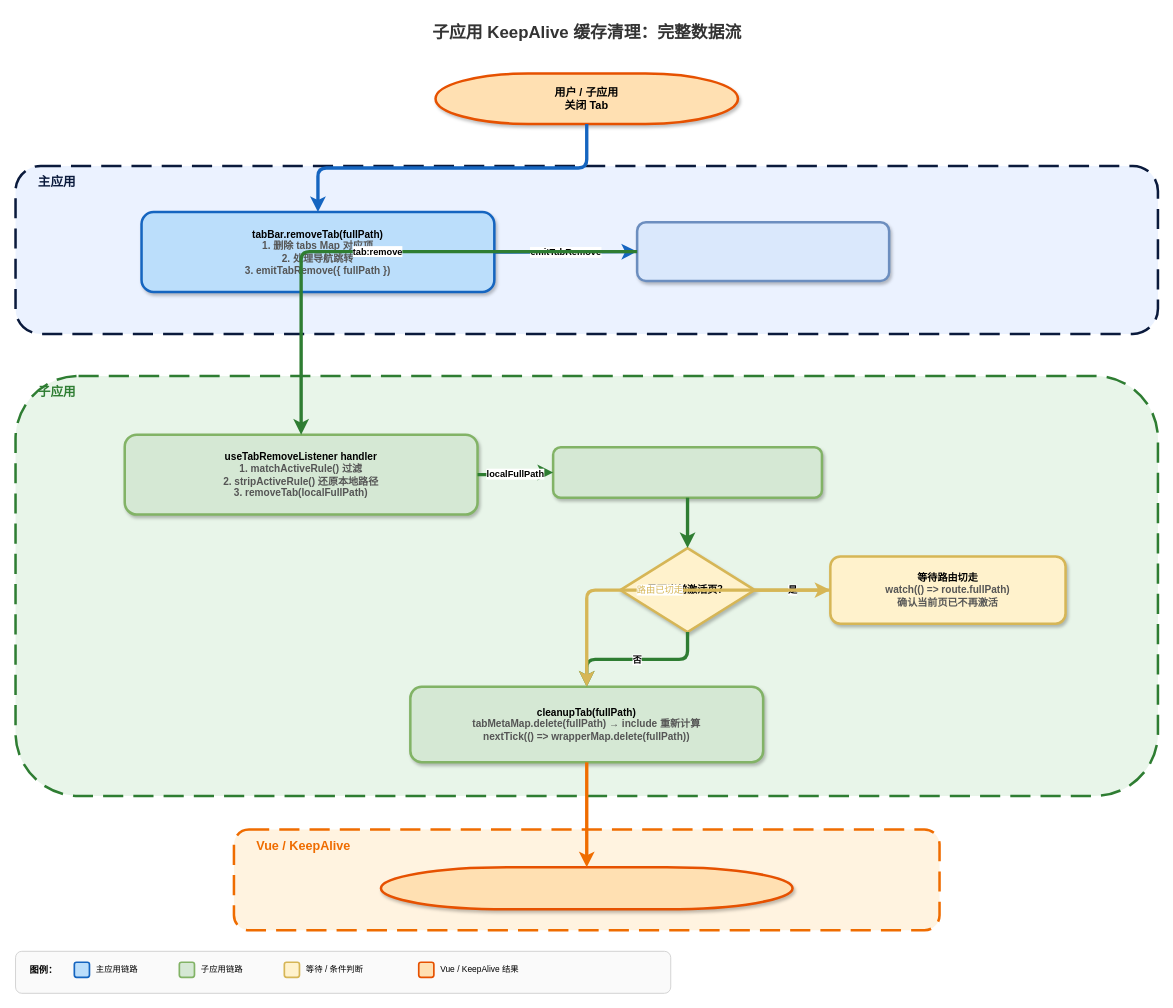
This 1173x1008 diagram has some shape labels left out. Here are the shapes that lost their labels. From the top down, the centre of each, then its label:
At point 763,252: "运行时事件 channel.emit('tab:remove')".
At point 688,473: "useKeepAlive.removeTab(localFullPath)".
At point 587,889: "KeepAlive 销毁对应缓存实例 目标页面实例被安全清理".
